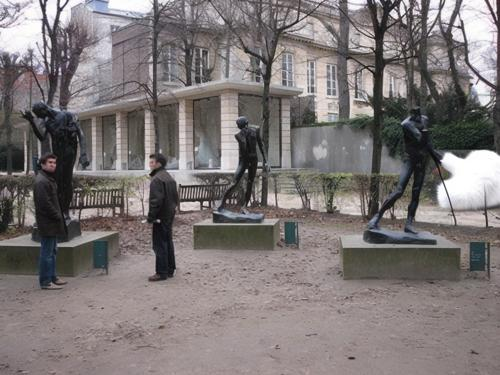cat: (435, 151, 500, 210)
person: (36, 154, 68, 289), (146, 155, 177, 282)
person/foot: (39, 282, 63, 290), (148, 274, 166, 280), (53, 280, 67, 285), (167, 274, 173, 277)
person/hand: (146, 218, 152, 223)
person/head: (146, 153, 166, 171), (40, 153, 57, 173)
